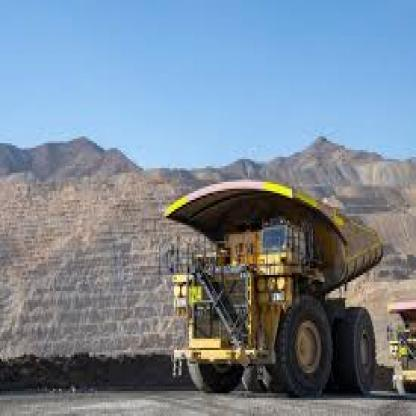dump_truck: (153, 166, 396, 402)
